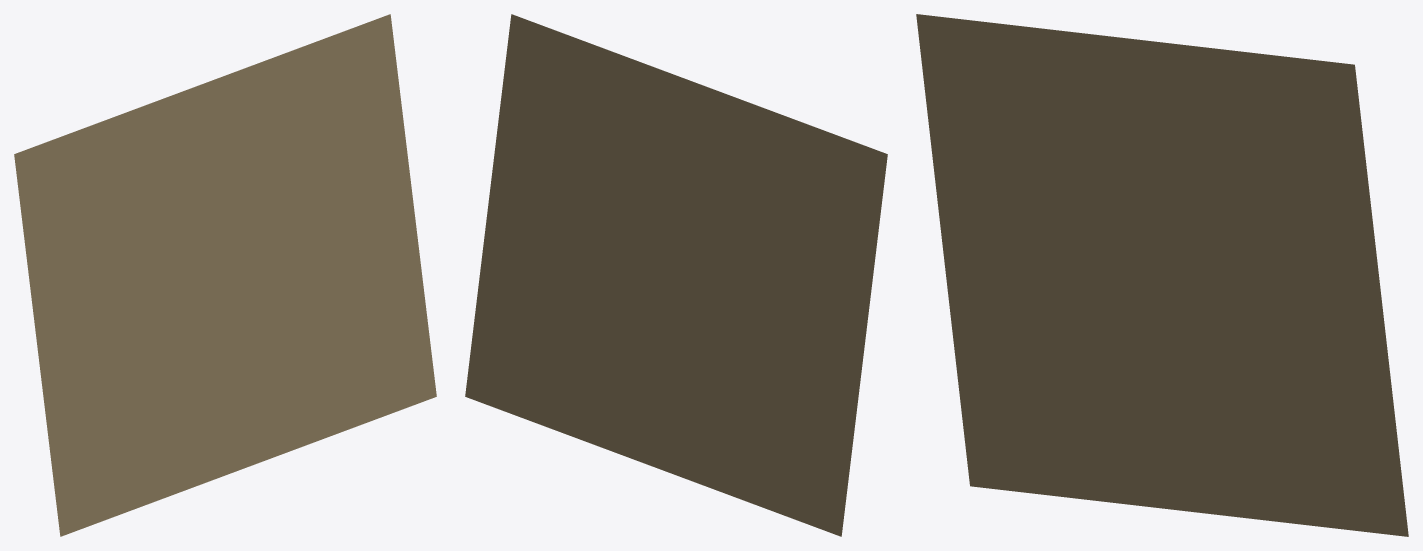
File: v4_wall_c5.obj
3 views of the same model, side by side, from view 1: azimuth 30°, elevation 25°; view 2: azimuth 150°, elevation 25°; view 3: azimuth 330°, elevation 25° (orthographic). The views are drawn at different scales.
Bounding box in the file's own units: 1.11 × 1.11 × 0.
